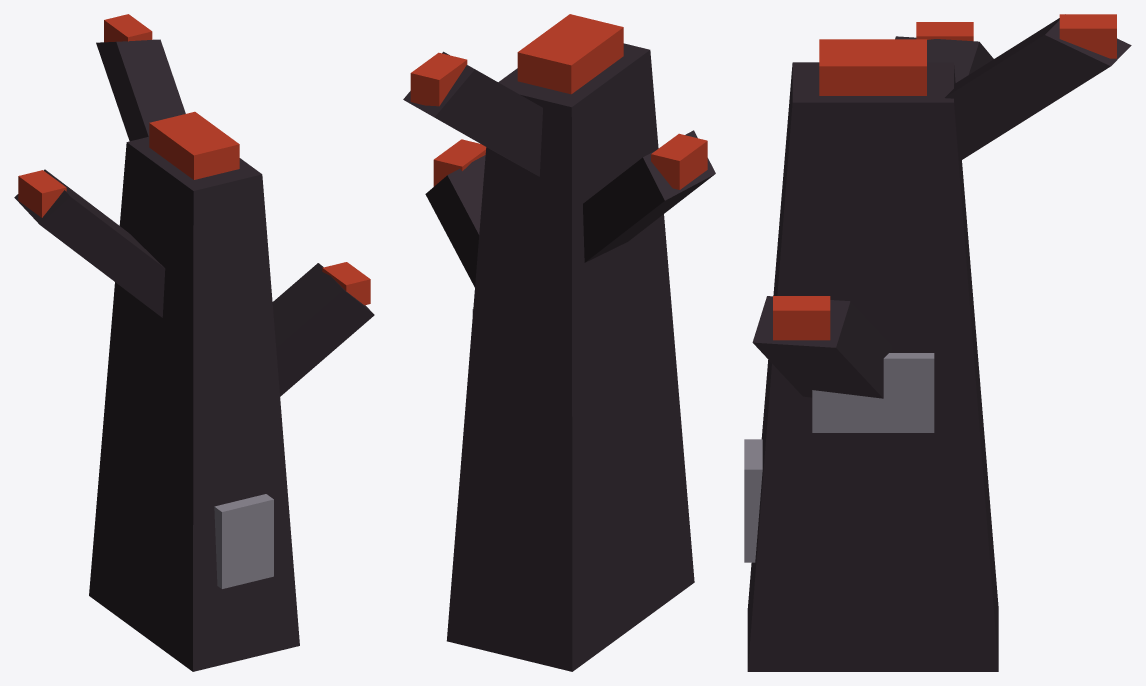
File: env_r3_charred_tree.glb
3 renders of one model, left to right at view 1: azimuth 30°, elevation 25°; view 2: azimuth 150°, elevation 25°; view 3: azimuth 270°, elevation 25°, orthographic. The views are drawn at different scales.
Parts seen in each view (by area): view 1: env_r3_charred_tree; view 2: env_r3_charred_tree; view 3: env_r3_charred_tree.
Part boxes in pixels (box(x1,y1,x2,y2)): env_r3_charred_tree: box(14, 14, 374, 671); env_r3_charred_tree: box(403, 14, 715, 671); env_r3_charred_tree: box(744, 14, 1131, 671).
Bounding box in the file's own units: 2 × 3.6 × 2.
1 material, 1 textured.
